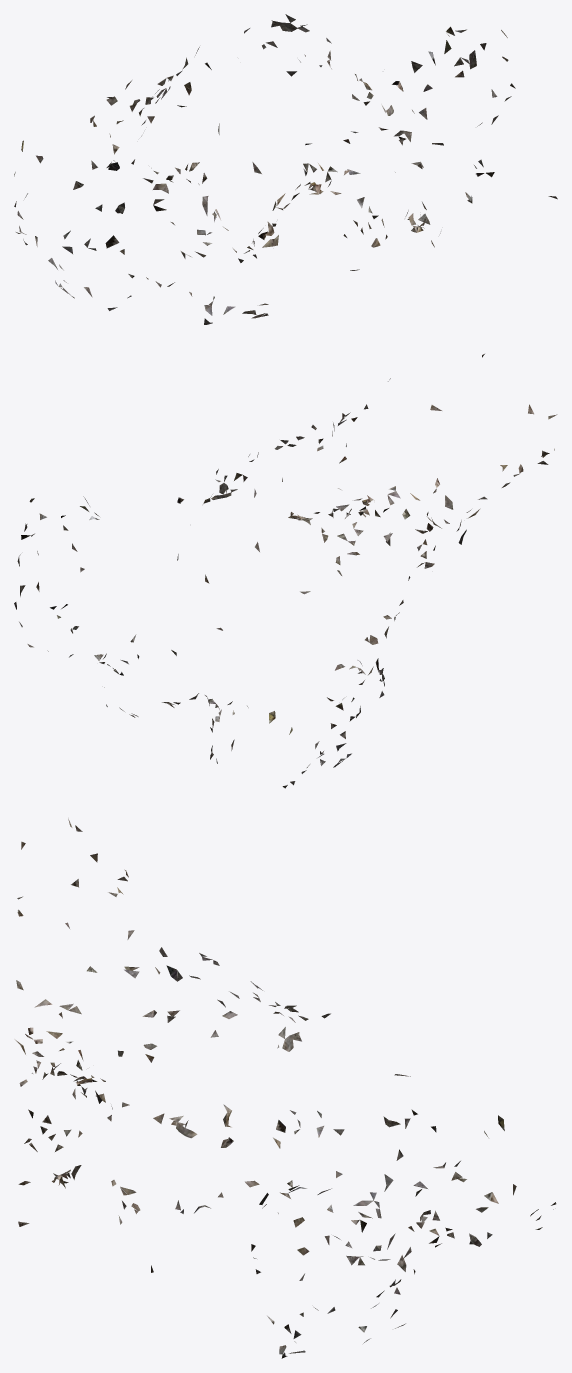
3 renders of one model, top to bottom at view 1: azimuth 30°, elevation 25°; view 2: azimuth 150°, elevation 25°; view 3: azimuth 270°, elevation 25°, orthographic. The views are drawn at different scales.
Size of the model in its own units: 5.7 by 4.07 by 5.05.
Materials: 1 (1 with a texture image).
